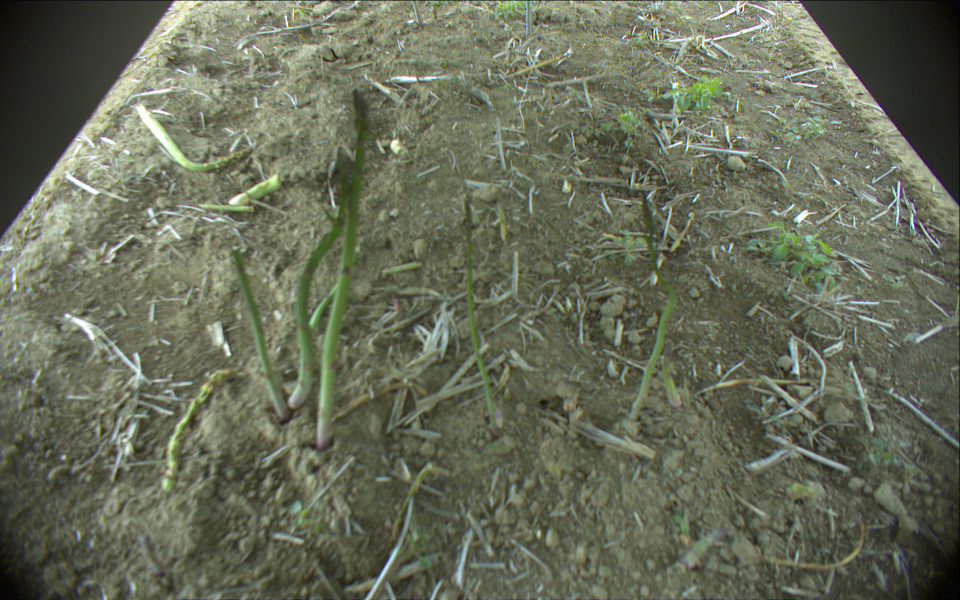aspa: (313, 87, 373, 450), (285, 172, 350, 411), (231, 250, 294, 422), (160, 366, 234, 491), (464, 195, 501, 426), (134, 104, 250, 173), (628, 290, 681, 416), (639, 192, 677, 298), (386, 462, 434, 541), (304, 274, 344, 331), (226, 171, 283, 205), (658, 343, 686, 407), (195, 201, 256, 214), (497, 201, 512, 242), (521, 1, 535, 40), (409, 1, 425, 26)
